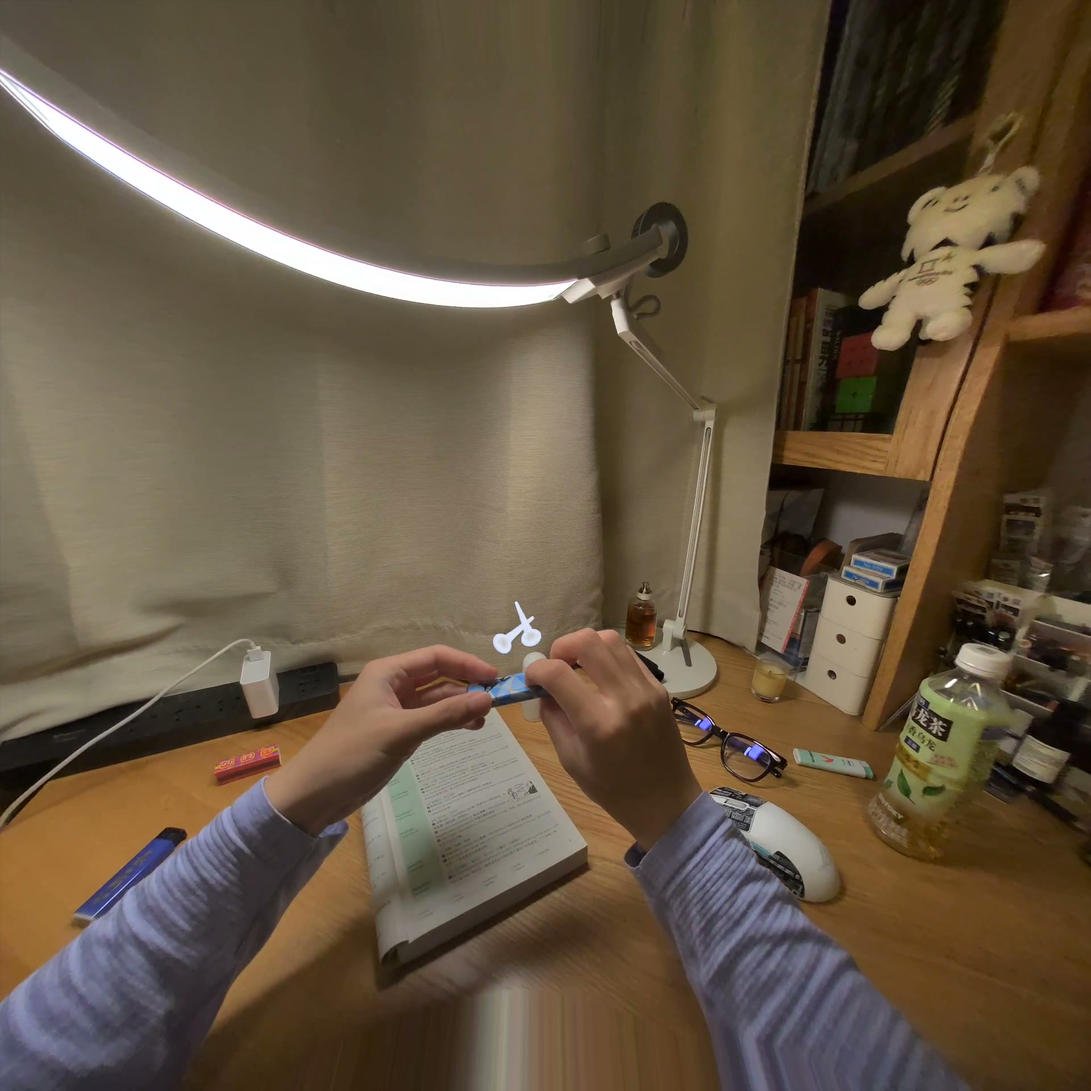lighter: (469, 673, 543, 707)
